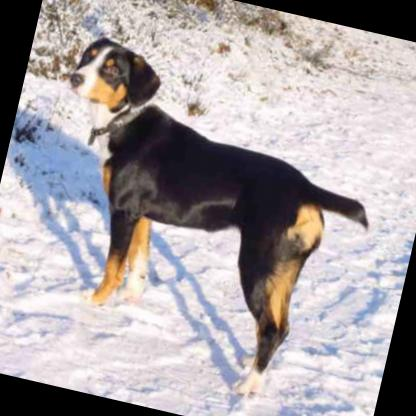EntleBucher: (7, 30, 396, 416)
